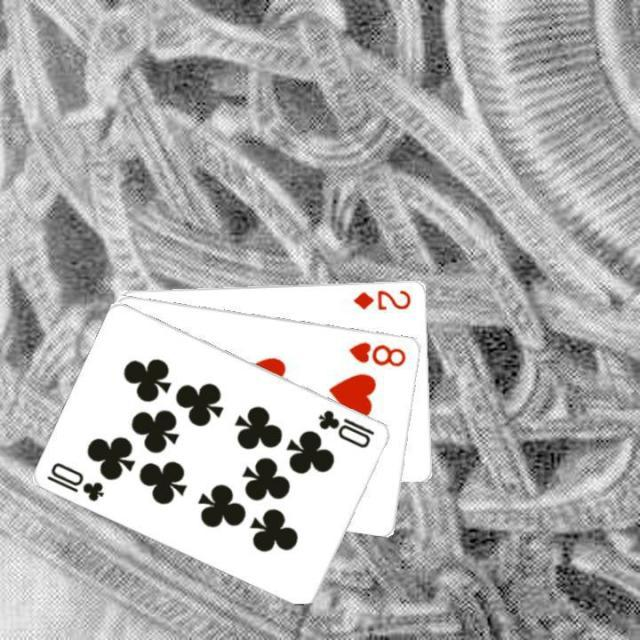10C: (43, 458, 107, 504), (315, 405, 377, 449)
2D: (351, 285, 414, 311)
8H: (345, 338, 408, 369)
